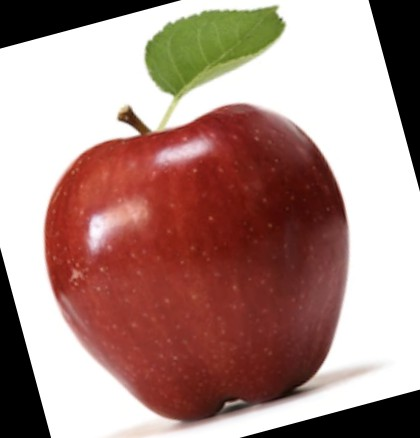fresh_apple: (46, 108, 353, 418)
